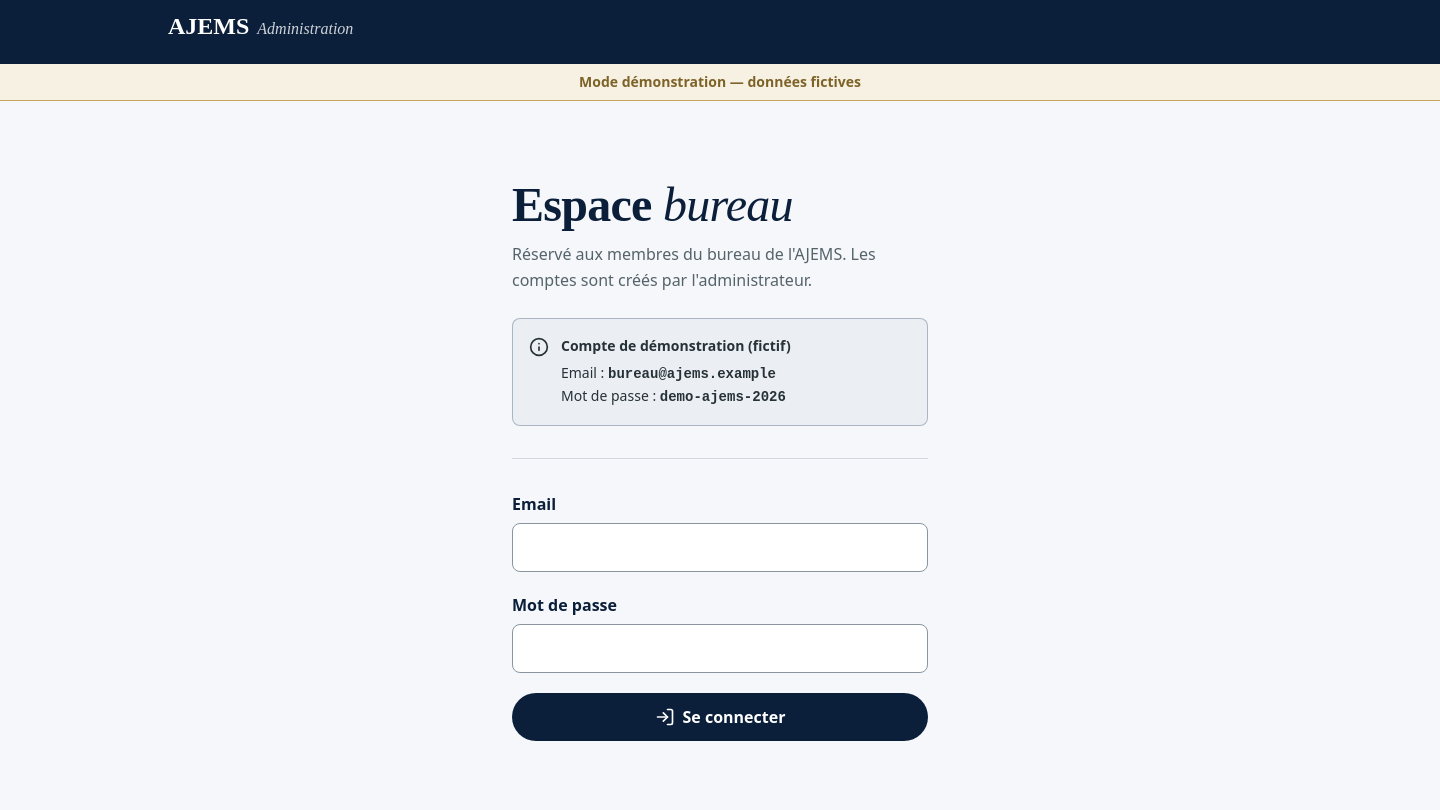
admin › lists, searches and filters members after login
Type "bureau@ajems.example" into the field labelled "Email" at [720, 548], box [512,523,928,572]
Type "demo-ajems-2026" into the password field labelled "Mot de passe" at [720, 648], box [512,624,928,673]
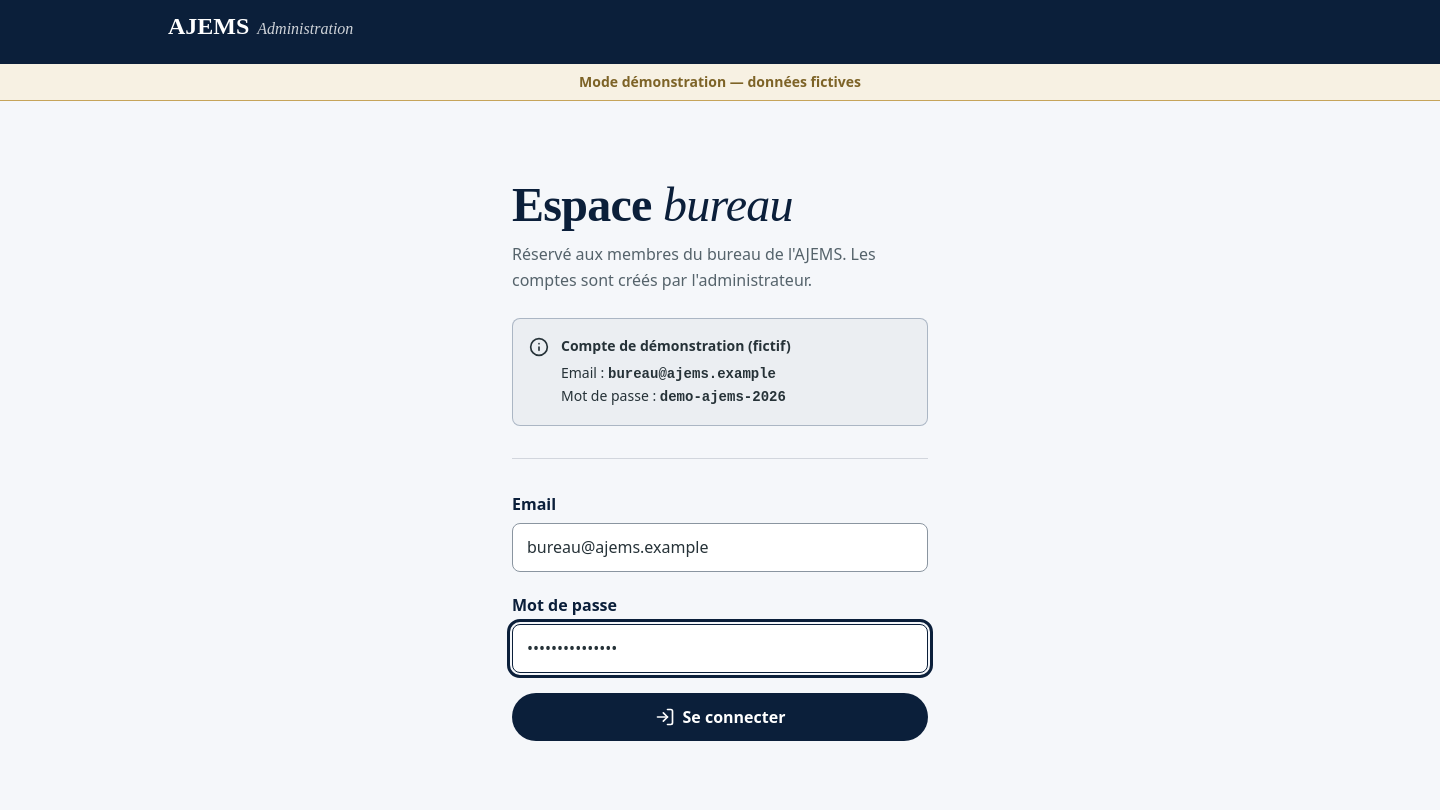
Click the button "Se connecter" at [720, 717], box [512,693,928,741]
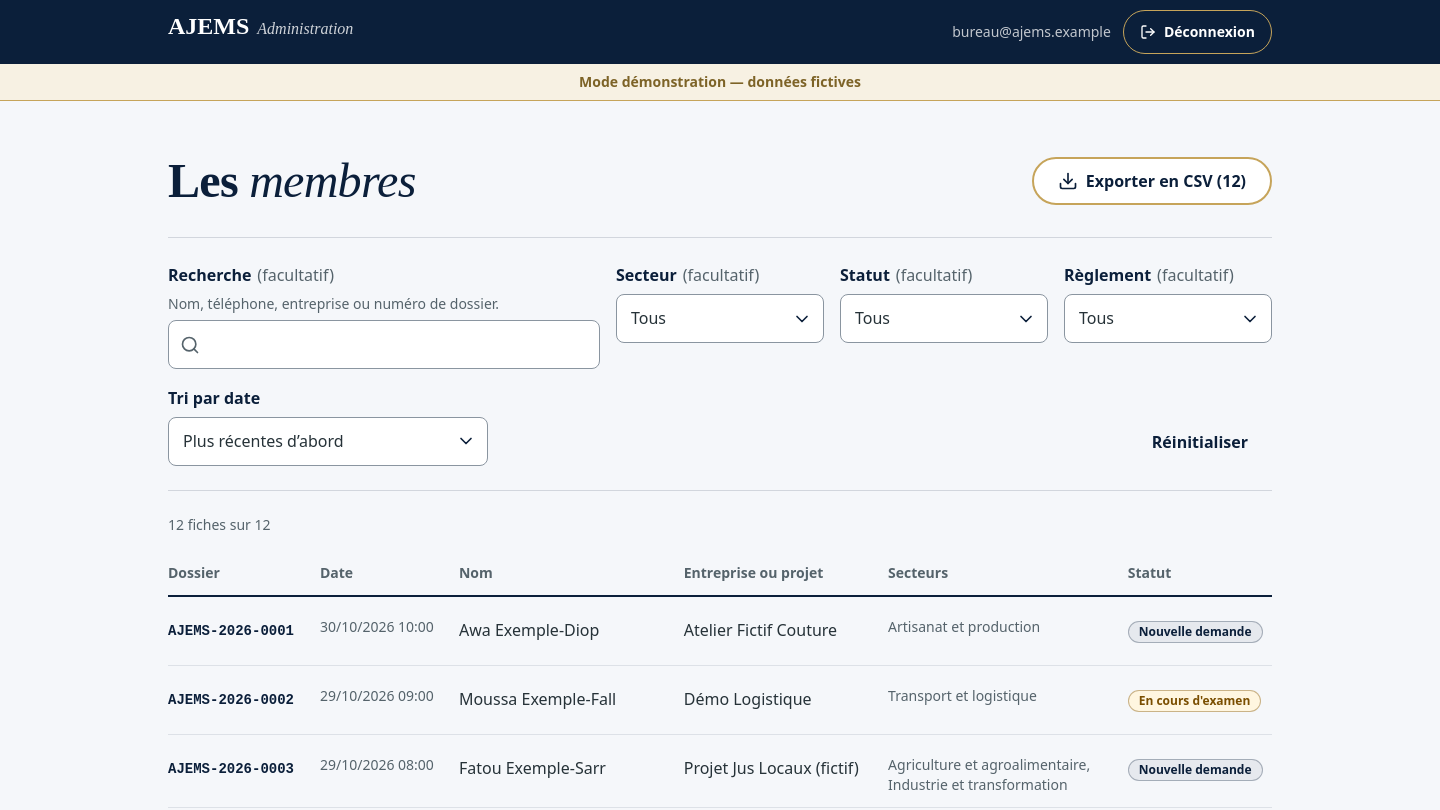
Result: the heading "Les membres" is shown at [168,157,416,205]
Result: the text "12 fiches sur 12" is shown at [168,515,270,534]
Type "aissatou" into the search field labelled "Recherche(facultatif)" at [384, 345], box [168,320,600,369]
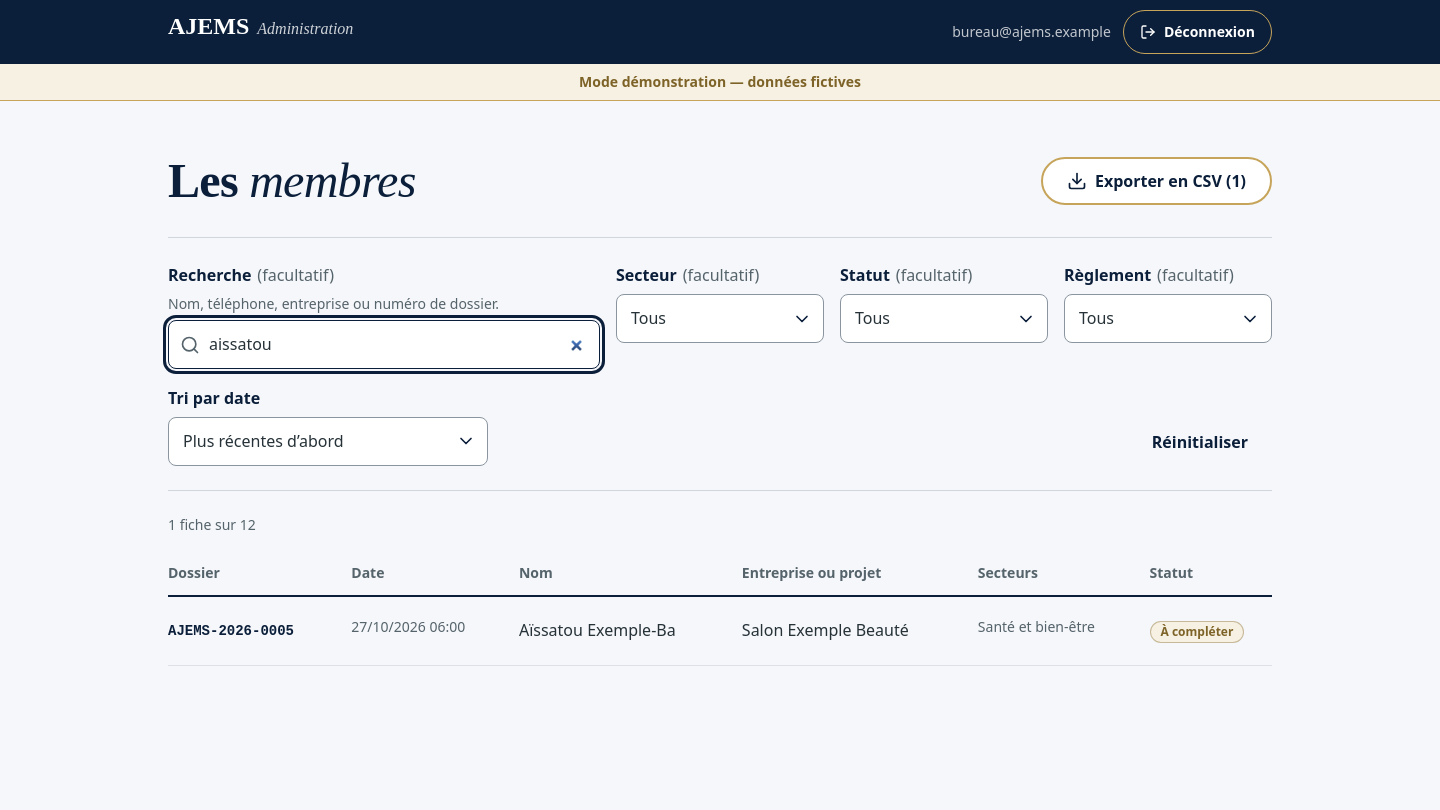
Result: the message reads "1 fiche sur 12" at [168,515,256,534]
Click the button "Réinitialiser" at [1200, 442], box [1128,418,1272,466]
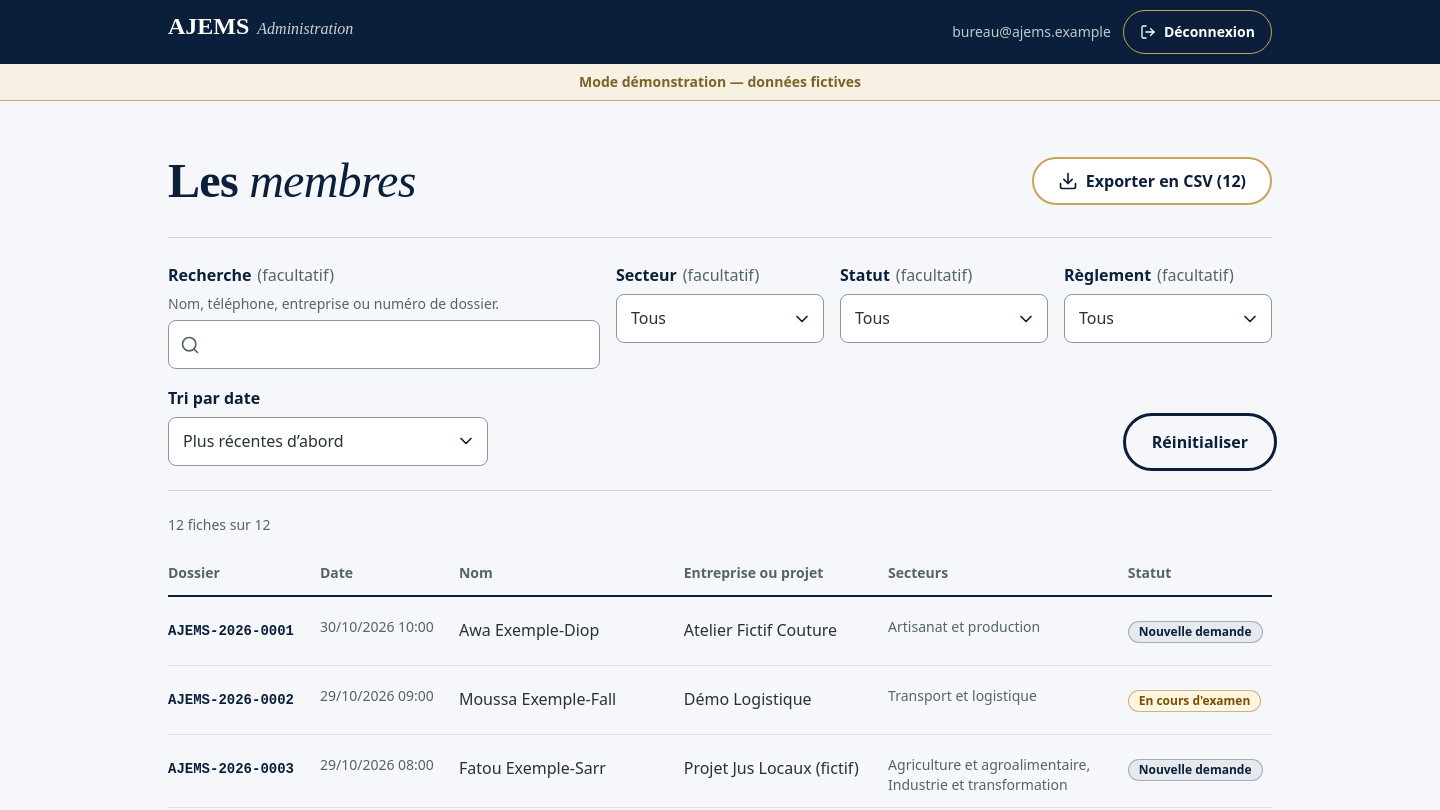
Select "Acceptée" in the dropdown labelled "Statut(facultatif)" at [944, 319], box [840,294,1048,343]
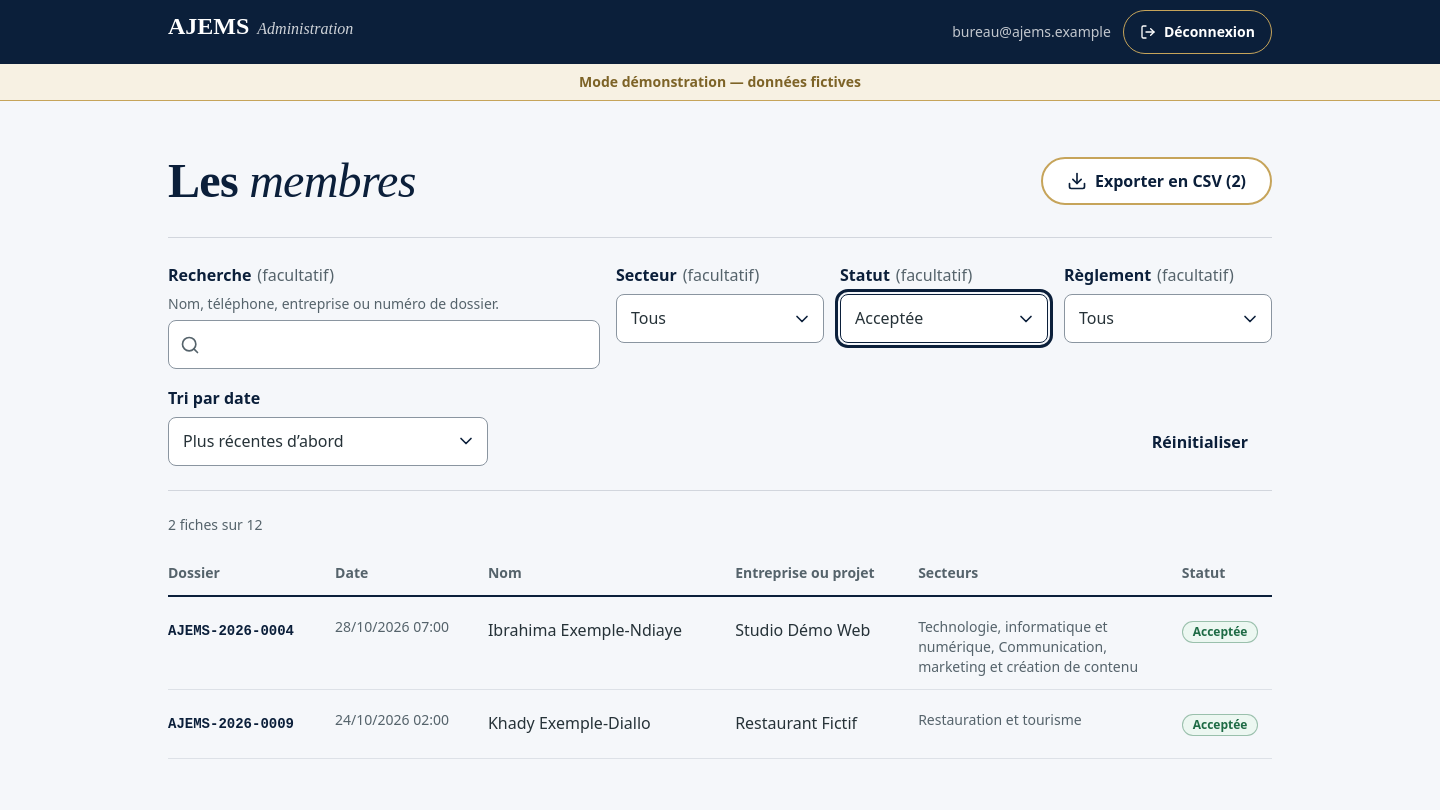
Result: the message reads "2 fiches sur 12" at [168,515,262,534]
Select "Restauration et tourisme" in the dropdown labelled "Secteur(facultatif)" at [720, 319], box [616,294,824,343]
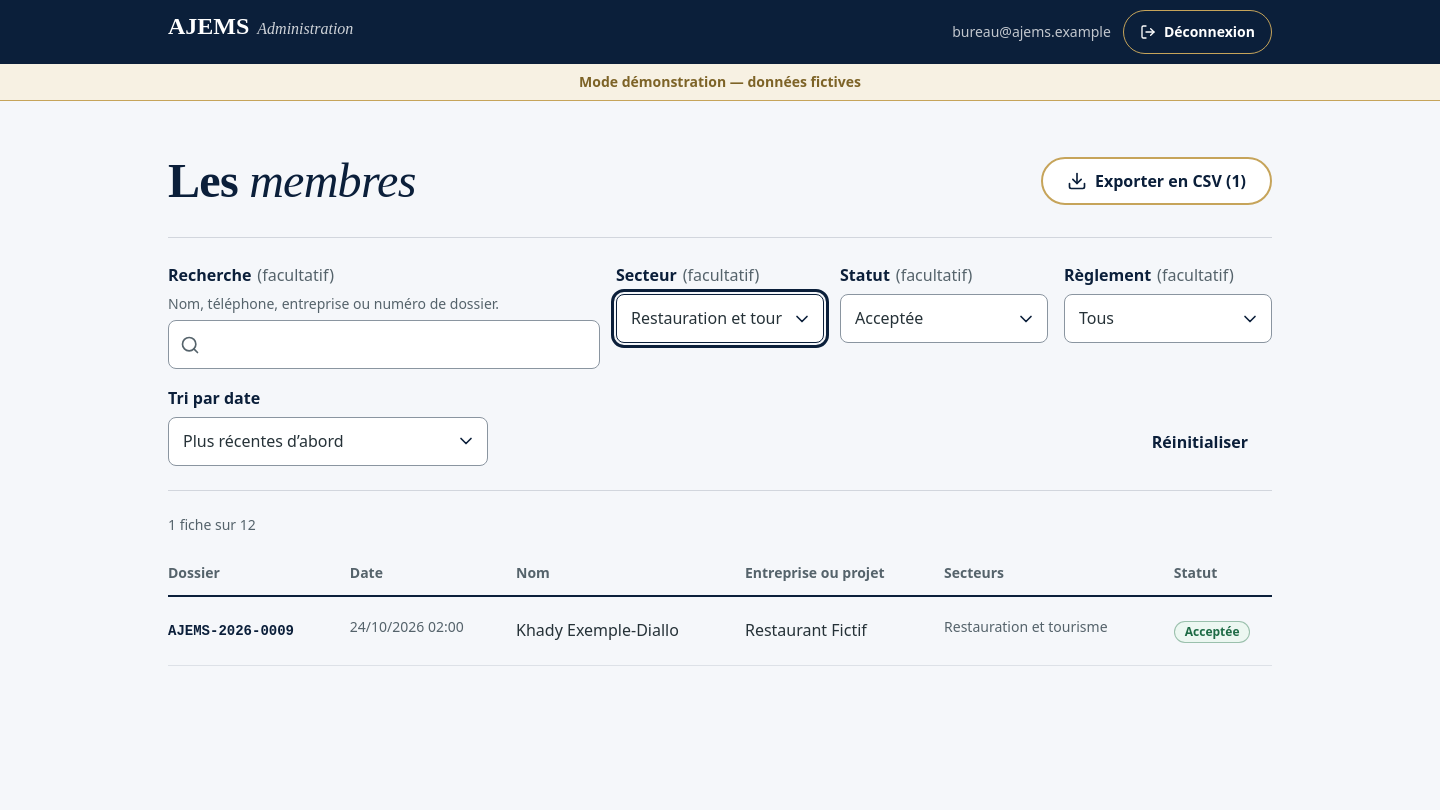
Result: the message reads "1 fiche sur 12" at [168,515,256,534]
